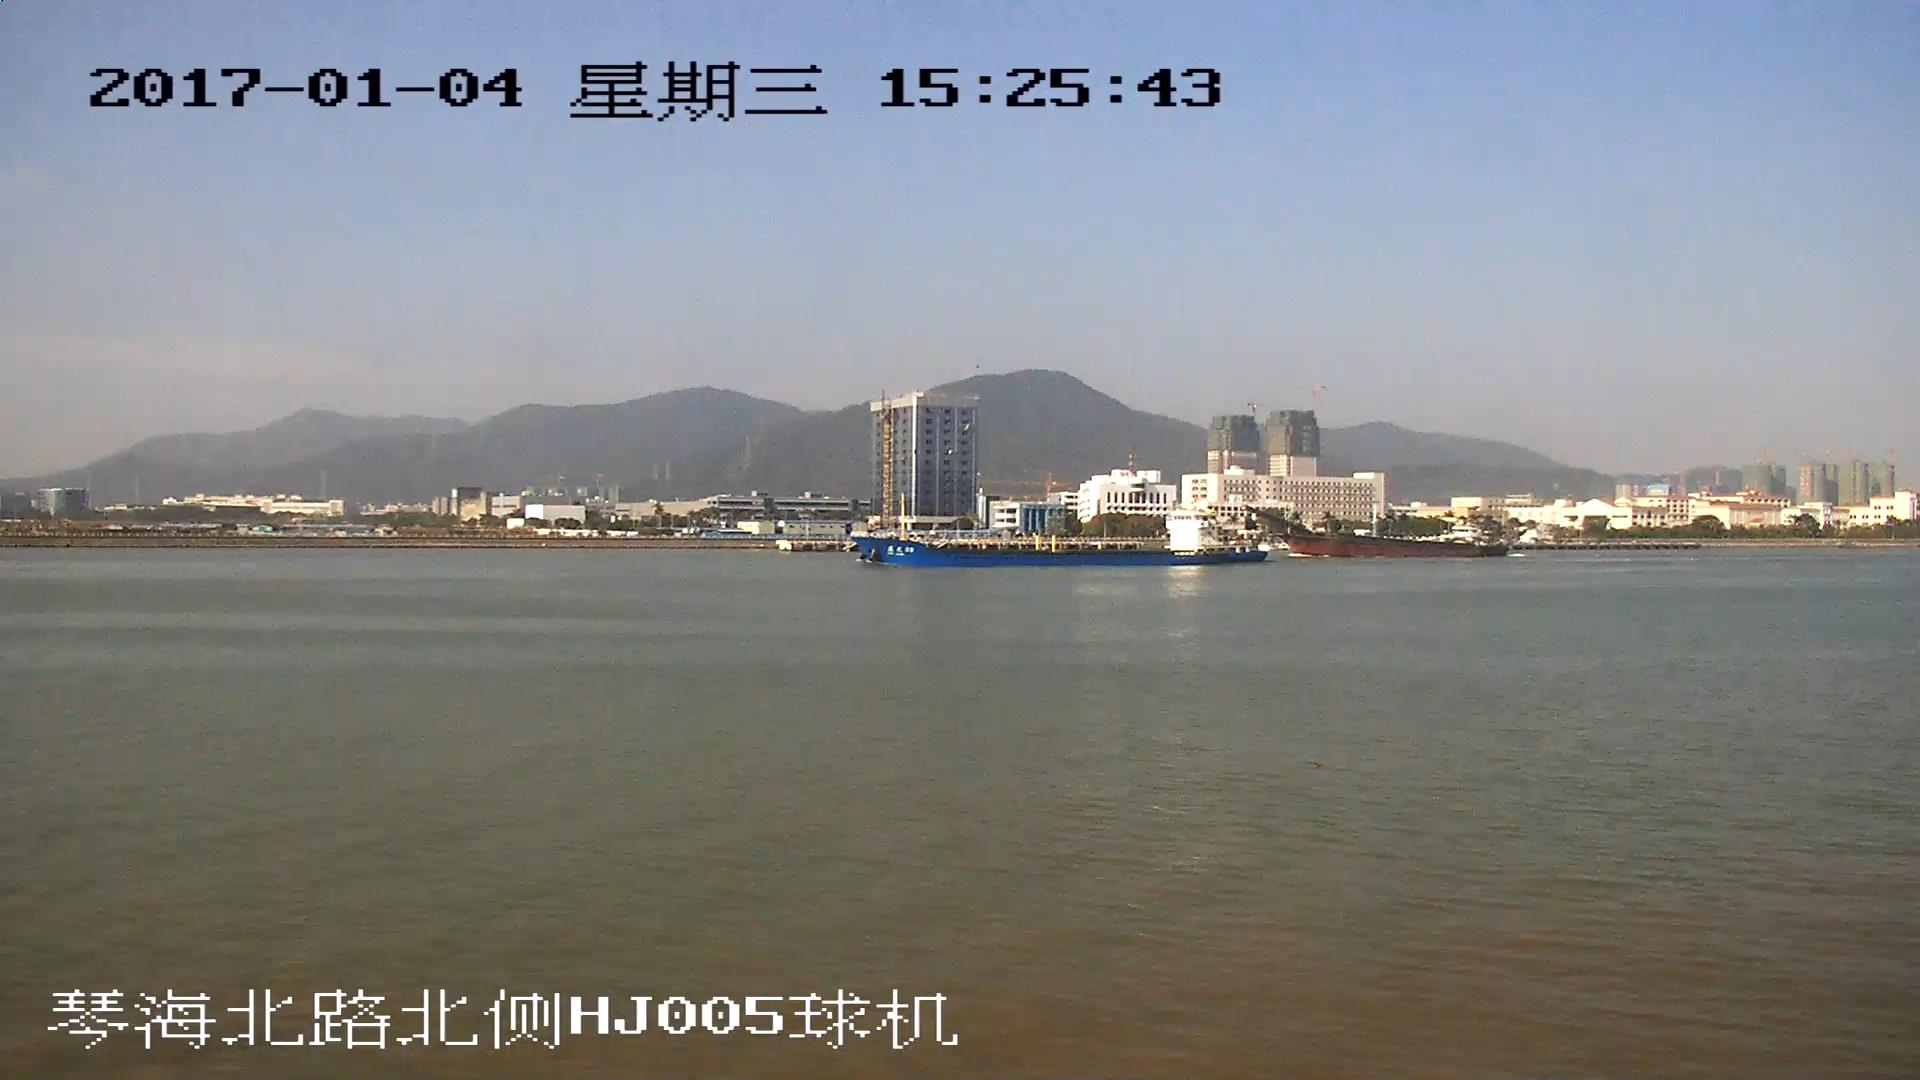bulk cargo carrier: (1245, 508, 1519, 558)
general cargo ship: (860, 501, 1251, 565)
